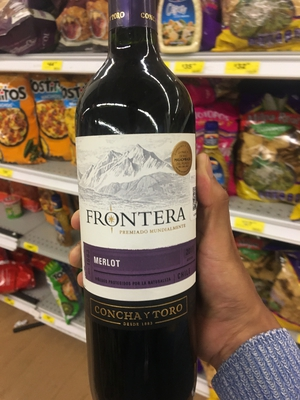frontera merlot: (63, 8, 216, 386)
